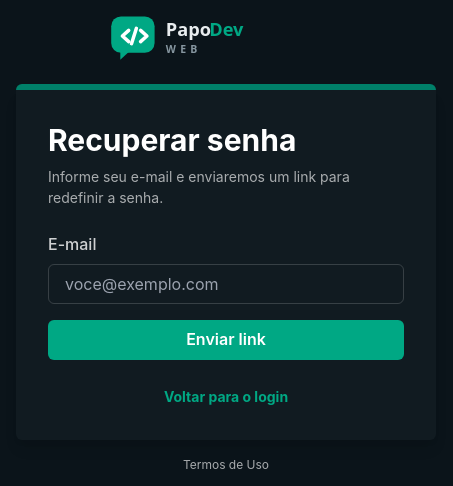
Scenario: ForgotPasswordPage › exibe confirmação após enviar
Type "maria@example.com" into the field labelled "E-mail". click: (226,284)
box: [48, 264, 404, 304]
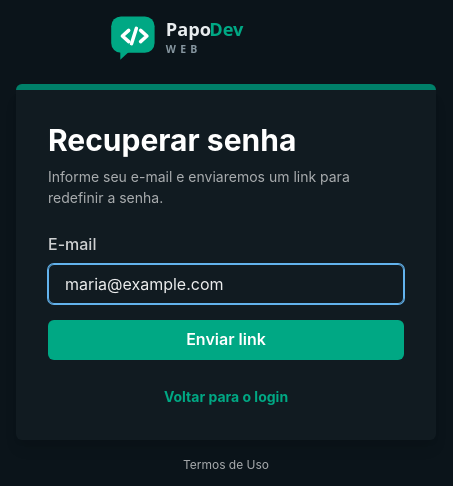
Click the button "Enviar link". click: (226,340)
box: [48, 320, 404, 360]
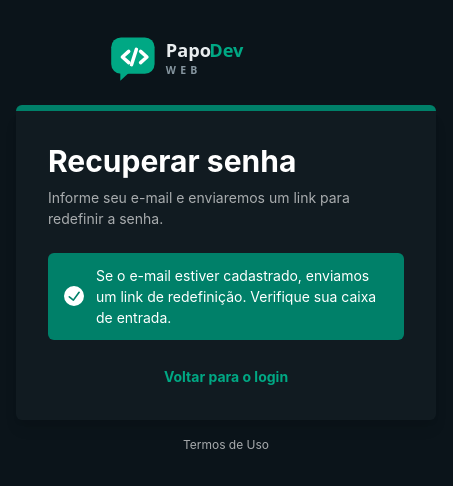
Now the text "enviamos um link de redefinição" is shown, box [96, 266, 376, 326]
